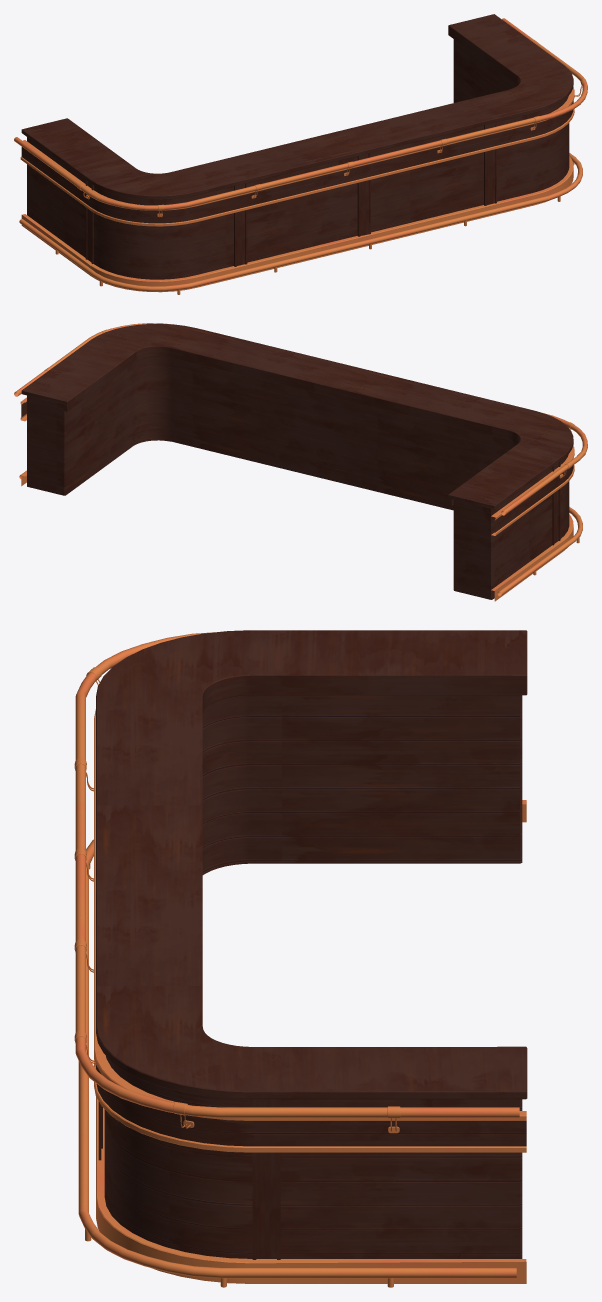
The model's file is Mesh_Bar_bottom.fbx.
The picture shows the model from 3 angles, top to bottom: view 1: azimuth 30°, elevation 25°; view 2: azimuth 150°, elevation 25°; view 3: azimuth 270°, elevation 25°; orthographic projection. The views are drawn at different scales.
Visible parts, largest first — view 1: polySurface350; view 2: polySurface350; view 3: polySurface350.
Part boxes in pixels (x1=…): polySurface350: x1=14, y1=14, x2=587, y2=294; polySurface350: x1=14, y1=323, x2=587, y2=601; polySurface350: x1=74, y1=630, x2=527, y2=1287.
Bounding box in the file's own units: 533 × 99.46 × 212.
Materials: 3 (3 with a texture image).
